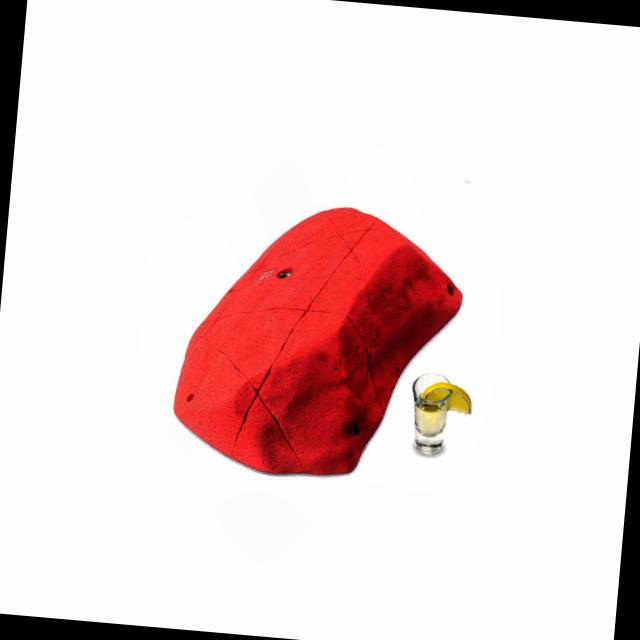Hold: (159, 194, 473, 487)
